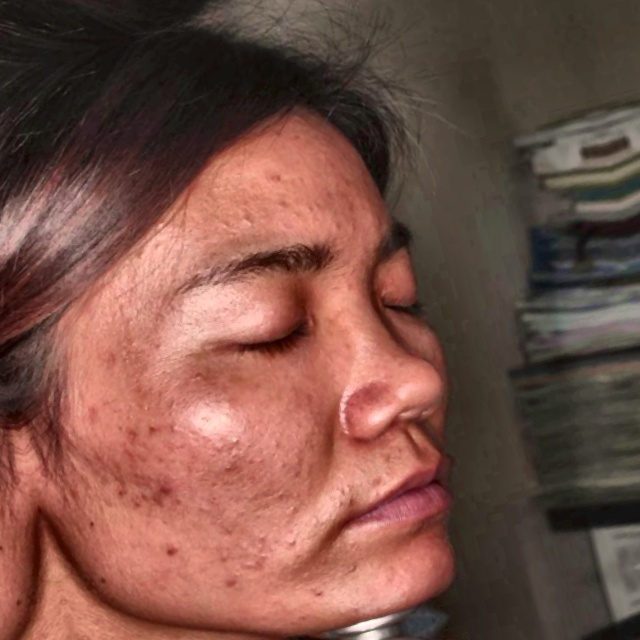comedone: (145, 476, 182, 516), (120, 486, 143, 516), (164, 539, 190, 562)
